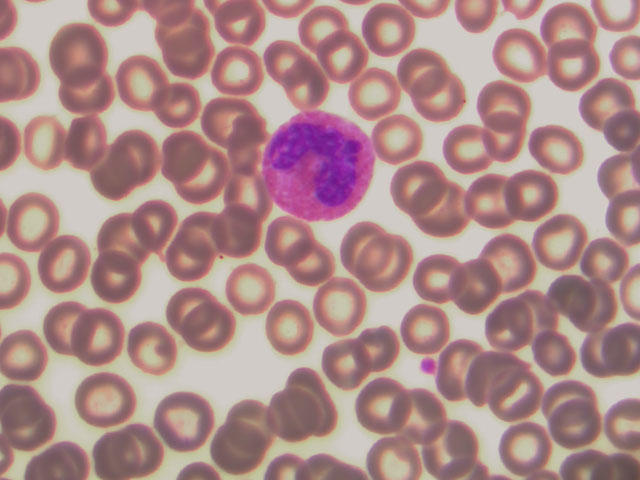Platelets: (418, 354, 443, 377)
RBC: (47, 23, 112, 85), (52, 57, 117, 119), (90, 96, 155, 158), (35, 233, 100, 295), (8, 187, 73, 249), (70, 309, 135, 371), (34, 289, 99, 351), (1, 321, 66, 383), (117, 318, 182, 380), (86, 246, 151, 308), (92, 211, 157, 273), (116, 192, 181, 254), (158, 230, 223, 292), (170, 202, 235, 264), (212, 199, 277, 261), (218, 258, 283, 320), (183, 306, 248, 368), (160, 279, 225, 341), (260, 291, 325, 353), (263, 385, 328, 447), (228, 391, 293, 453), (199, 418, 264, 480), (154, 387, 219, 449), (97, 418, 162, 480), (69, 369, 134, 431), (310, 340, 375, 402), (339, 312, 404, 374), (310, 279, 375, 341), (286, 244, 351, 306), (267, 210, 332, 272), (214, 170, 279, 232), (168, 151, 233, 213), (160, 124, 225, 186), (110, 129, 175, 191), (77, 149, 142, 211), (46, 112, 111, 174), (2, 116, 67, 178), (115, 51, 180, 113), (156, 75, 221, 137), (200, 82, 265, 144), (213, 40, 278, 102), (253, 28, 318, 90), (282, 54, 347, 116), (322, 33, 387, 95), (342, 64, 407, 126), (368, 111, 433, 173), (390, 152, 455, 214), (409, 188, 474, 250), (450, 173, 515, 235), (495, 167, 560, 229), (526, 117, 591, 179), (450, 118, 515, 180), (472, 80, 537, 142), (424, 78, 489, 140), (388, 35, 453, 97), (358, 3, 423, 65), (292, 1, 357, 63), (485, 32, 550, 94), (545, 40, 610, 102), (567, 70, 632, 132), (575, 227, 640, 289), (530, 212, 595, 274), (484, 229, 549, 291), (444, 254, 509, 316), (415, 249, 480, 311), (358, 231, 423, 293), (337, 213, 402, 275), (393, 292, 458, 354), (441, 341, 506, 403), (466, 344, 531, 406), (484, 364, 549, 426), (537, 372, 602, 434), (532, 331, 597, 393), (484, 289, 549, 351), (549, 272, 614, 334), (575, 316, 640, 378), (497, 417, 562, 479), (426, 418, 491, 480), (390, 382, 455, 444), (361, 374, 426, 436), (1, 383, 65, 445), (536, 1, 601, 62), (362, 431, 420, 480)
WBC: (266, 110, 376, 224)
